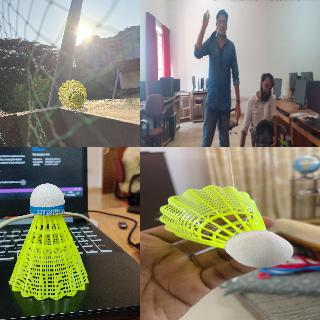shuttlecock: (158, 185, 292, 267), (7, 182, 91, 300), (58, 78, 86, 108), (206, 10, 210, 18)
